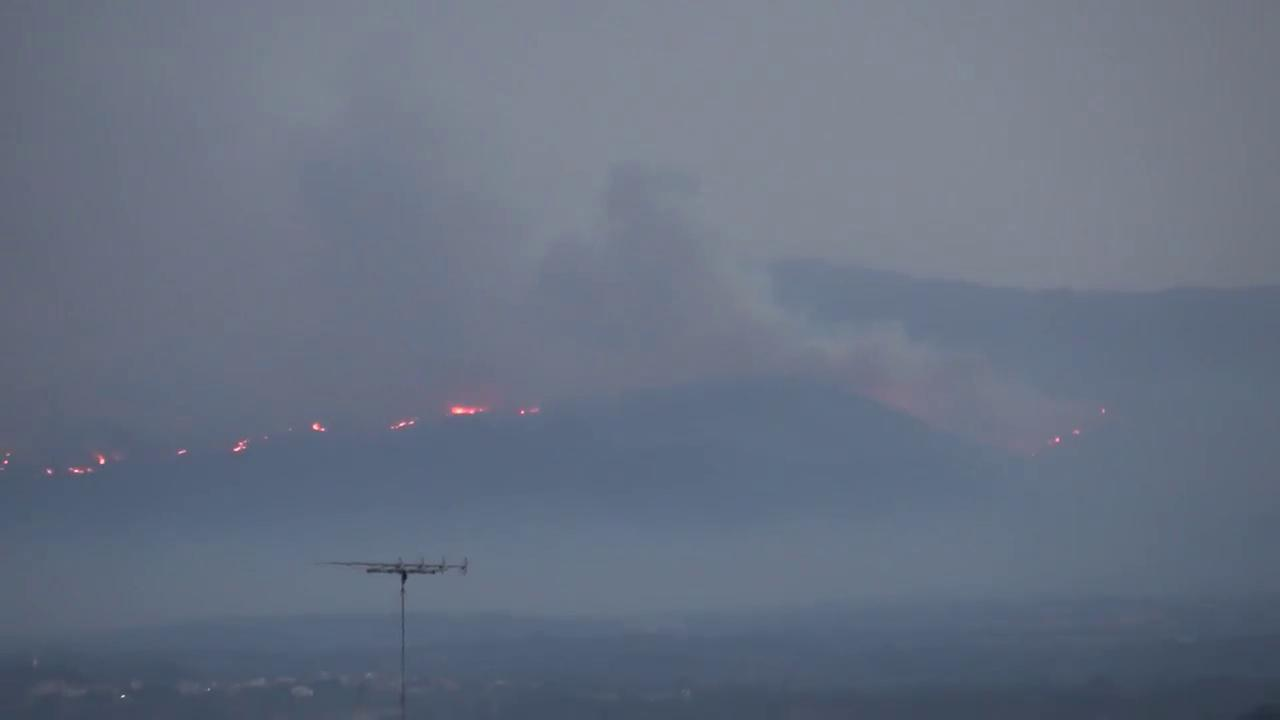Fire: (447, 405, 487, 420), (232, 435, 252, 455), (64, 464, 96, 476), (389, 420, 418, 432), (311, 421, 333, 435), (98, 455, 109, 465)
